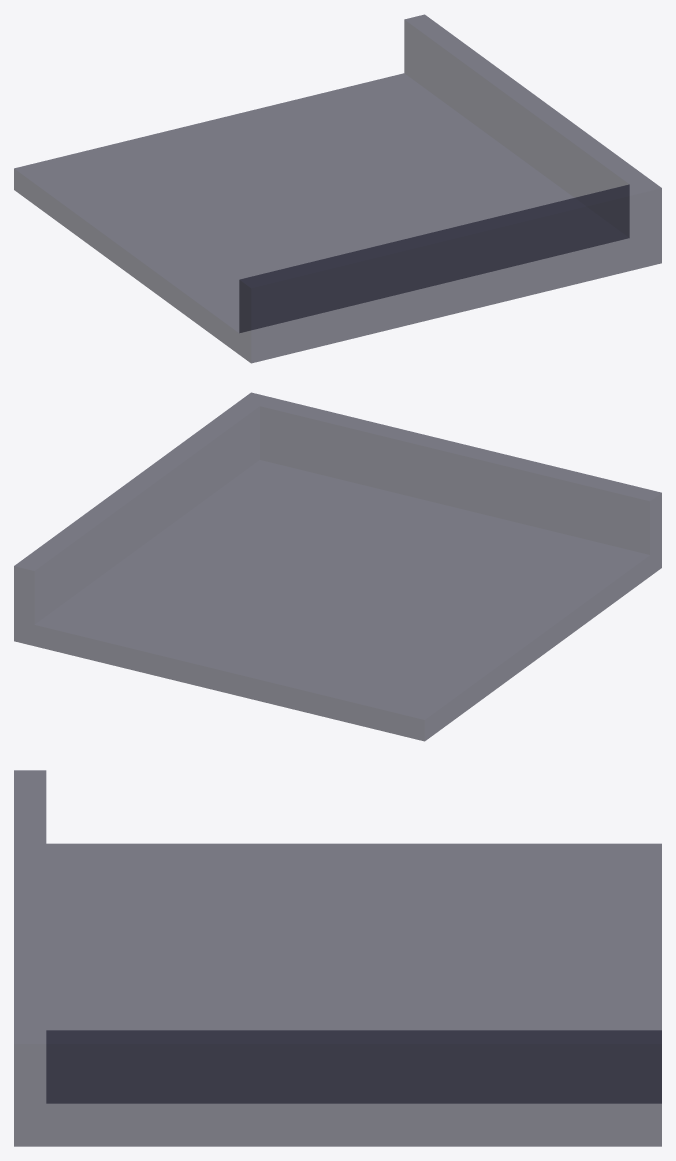
File: GlassRoof_Corner.glb
3 views of the same model, one above another, from view 1: azimuth 30°, elevation 25°; view 2: azimuth 150°, elevation 25°; view 3: azimuth 270°, elevation 25° (orthographic). The views are drawn at different scales.
Parts seen in each view (by area): view 1: roof_flat_corner_glass; view 2: roof_flat_corner_glass; view 3: roof_flat_corner_glass.
Boxes of the visible parts, left/top/right/bottom form: roof_flat_corner_glass: left=14, top=14, right=661, bottom=363; roof_flat_corner_glass: left=14, top=392, right=661, bottom=741; roof_flat_corner_glass: left=14, top=770, right=661, bottom=1146.
Size of what is drawn, in the model's own units: 4 by 0.7 by 4.
1 material, 1 textured.
